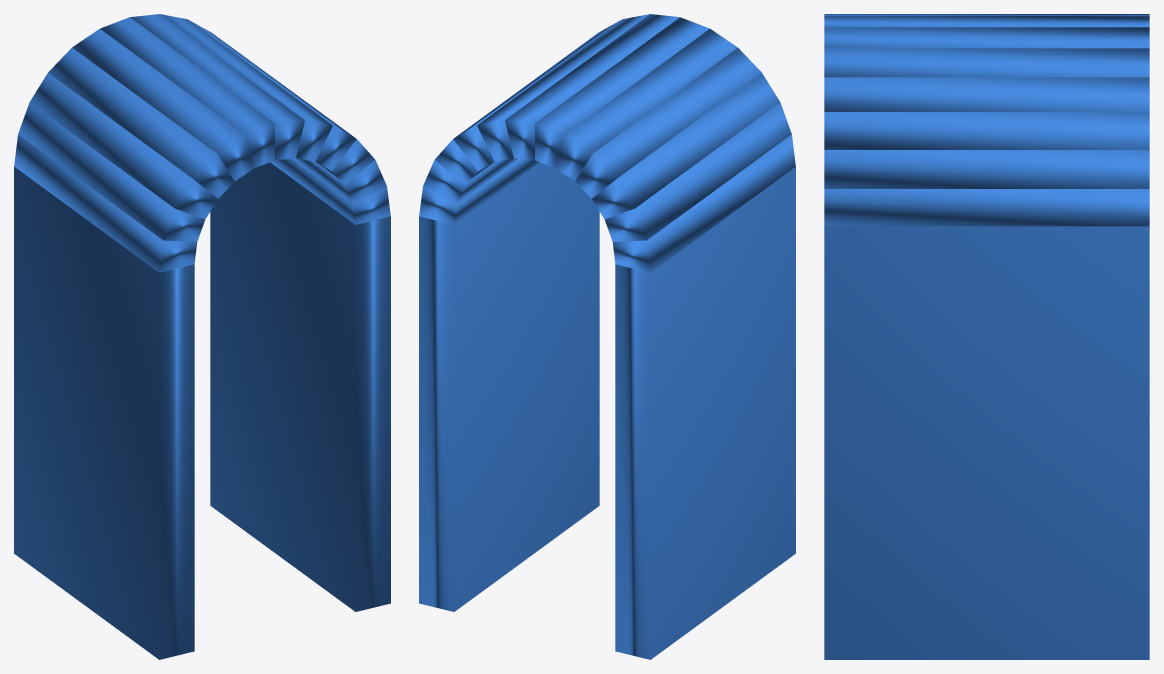
3 renders of one model, left to right at view 1: azimuth 30°, elevation 25°; view 2: azimuth 150°, elevation 25°; view 3: azimuth 270°, elevation 25°, orthographic. The views are drawn at different scales.
Visible parts, largest first — view 1: left_pier, right_pier, voussoir_10, voussoir_9, voussoir_11, voussoir_8, voussoir_12, voussoir_7, voussoir_6, voussoir_5, voussoir_1, voussoir_4 (+2 smaller); view 2: left_pier, right_pier, voussoir_10, voussoir_9, voussoir_11, voussoir_8, voussoir_12, voussoir_7, voussoir_6, voussoir_5, voussoir_1, voussoir_4 (+2 smaller); view 3: right_pier, voussoir_2, voussoir_1, voussoir_3, voussoir_4, voussoir_5, voussoir_6, voussoir_7, voussoir_8.
Boxes of the visible parts, box(x1,y1,x2,y2) form: left_pier: box(14, 167, 194, 659); right_pier: box(210, 162, 390, 611); voussoir_10: box(30, 73, 217, 219); voussoir_9: box(48, 48, 234, 198); voussoir_11: box(18, 102, 205, 241); voussoir_8: box(72, 29, 253, 180); voussoir_12: box(14, 134, 197, 272); voussoir_7: box(100, 17, 274, 167); voussoir_6: box(130, 14, 304, 160); voussoir_5: box(160, 14, 332, 161); voussoir_1: box(270, 158, 390, 224); voussoir_4: box(189, 20, 356, 170); left_pier: box(615, 167, 795, 659); right_pier: box(419, 162, 599, 611); voussoir_10: box(592, 73, 779, 219); voussoir_9: box(575, 48, 761, 198); voussoir_11: box(604, 102, 791, 241); voussoir_8: box(556, 29, 737, 180); voussoir_12: box(612, 134, 795, 272); voussoir_7: box(535, 17, 709, 167); voussoir_6: box(505, 14, 679, 160); voussoir_5: box(477, 14, 649, 161); voussoir_1: box(419, 158, 539, 224); voussoir_4: box(453, 20, 620, 170); right_pier: box(824, 226, 1149, 659); voussoir_2: box(824, 150, 1149, 188); voussoir_1: box(824, 189, 1149, 226); voussoir_3: box(824, 112, 1149, 149); voussoir_4: box(824, 77, 1149, 111); voussoir_5: box(824, 48, 1149, 77); voussoir_6: box(824, 27, 1149, 48); voussoir_7: box(824, 15, 1149, 27); voussoir_8: box(824, 14, 1149, 15).
Size of the model in its own units: 0.92 by 1.93 by 1.
